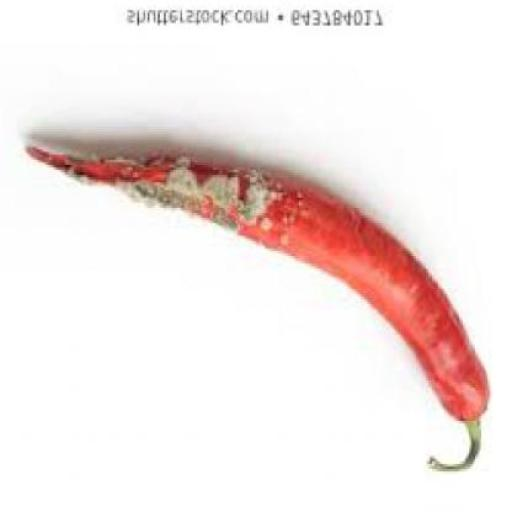biodegradable: (22, 150, 488, 474)
